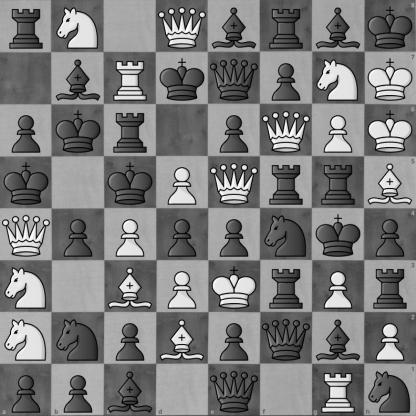B: (364, 156, 416, 209), (105, 261, 156, 312), (157, 313, 208, 364)
K: (364, 52, 416, 104), (364, 104, 416, 156), (209, 261, 260, 312)
N: (1, 261, 52, 312), (1, 313, 52, 364), (53, 1, 104, 52), (313, 53, 364, 104)
P: (364, 312, 416, 364), (105, 209, 156, 260), (157, 157, 208, 208), (157, 261, 208, 312), (313, 105, 364, 156), (313, 261, 364, 312)
Q: (1, 209, 52, 260), (157, 1, 208, 52), (209, 157, 260, 208), (261, 105, 312, 156)
R: (312, 364, 364, 416), (105, 53, 156, 104)
b: (104, 364, 156, 416), (53, 53, 104, 104), (209, 1, 260, 52), (313, 1, 364, 52), (313, 313, 364, 364)
board: (0, 0, 415, 415)
k: (364, 0, 416, 52), (1, 157, 52, 208), (53, 105, 104, 156), (105, 157, 156, 208), (157, 53, 208, 104), (313, 209, 364, 260)
n: (364, 364, 416, 416), (53, 313, 104, 364), (261, 209, 312, 260)
p: (0, 364, 52, 416), (52, 364, 104, 416), (364, 209, 416, 260), (1, 105, 52, 156), (53, 209, 104, 260), (105, 313, 156, 364), (157, 209, 208, 260), (209, 105, 260, 156), (209, 209, 260, 260), (209, 313, 260, 364), (261, 53, 312, 104)
q: (209, 364, 260, 416), (209, 53, 260, 104), (261, 313, 312, 364)
r: (364, 260, 416, 312), (1, 1, 52, 52), (105, 105, 156, 156), (261, 1, 312, 52), (261, 157, 312, 208), (261, 261, 312, 312), (313, 157, 364, 208)
